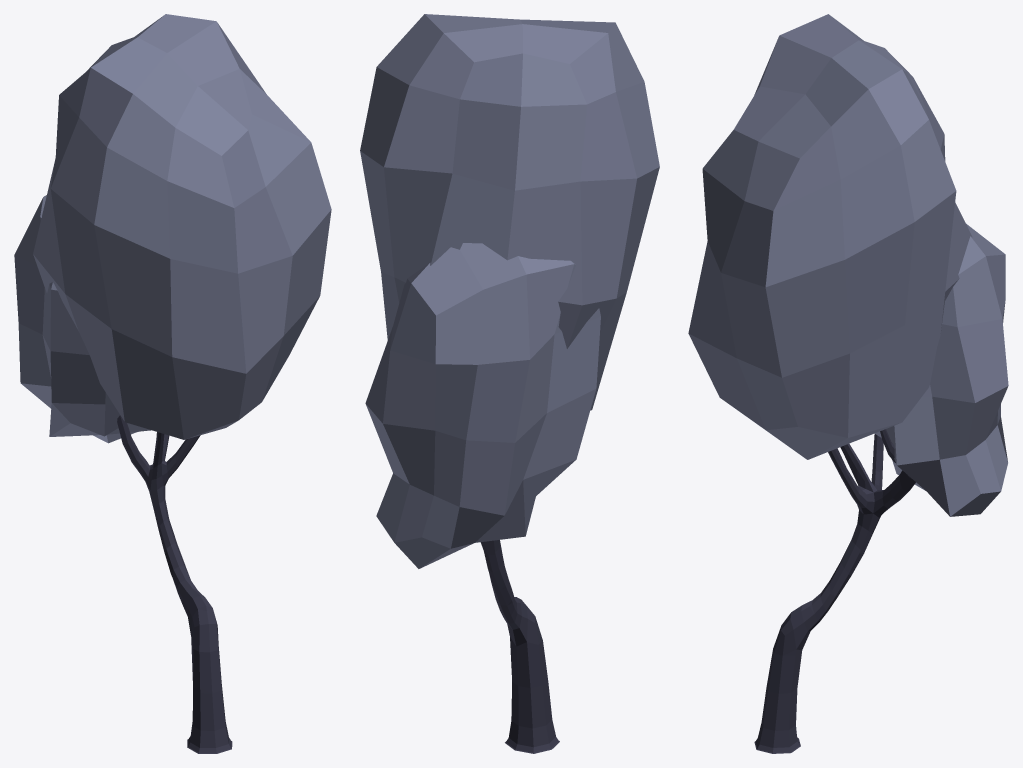
Rendered from Normal_tree_5.fbx.
3 renders of one model, left to right at view 1: azimuth 30°, elevation 25°; view 2: azimuth 150°, elevation 25°; view 3: azimuth 270°, elevation 25°, orthographic. The views are drawn at different scales.
Parts seen in each view (by area): view 1: Normal_tree_5; view 2: Normal_tree_5; view 3: Normal_tree_5.
Boxes of the visible parts, x1=… form: Normal_tree_5: x1=14, y1=14, x2=331, y2=753; Normal_tree_5: x1=360, y1=14, x2=659, y2=753; Normal_tree_5: x1=688, y1=14, x2=1008, y2=753.
Bounding box in the file's own units: 11.22 × 30.28 × 12.77.
